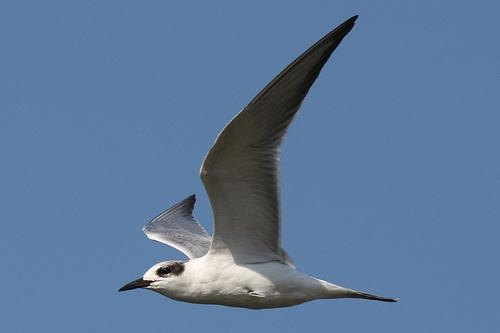bird: (118, 12, 400, 311)
